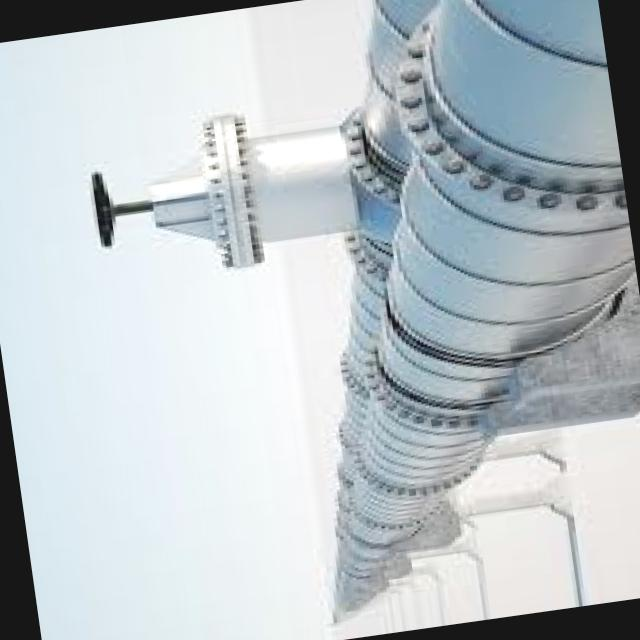gas: (343, 47, 634, 570), (75, 75, 372, 318), (340, 0, 434, 417)
